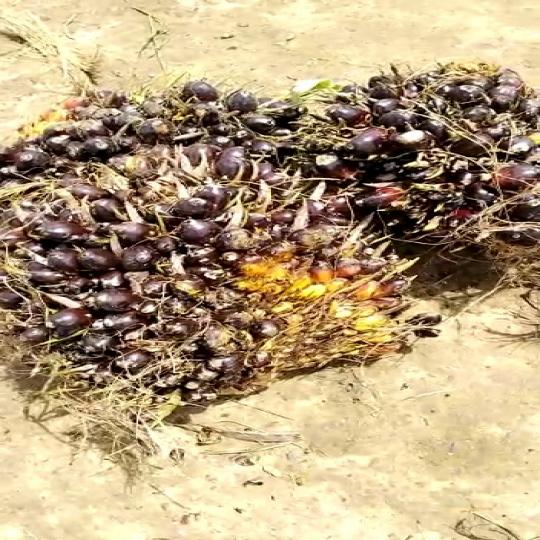mentah: (0, 74, 424, 414), (296, 42, 540, 252)
